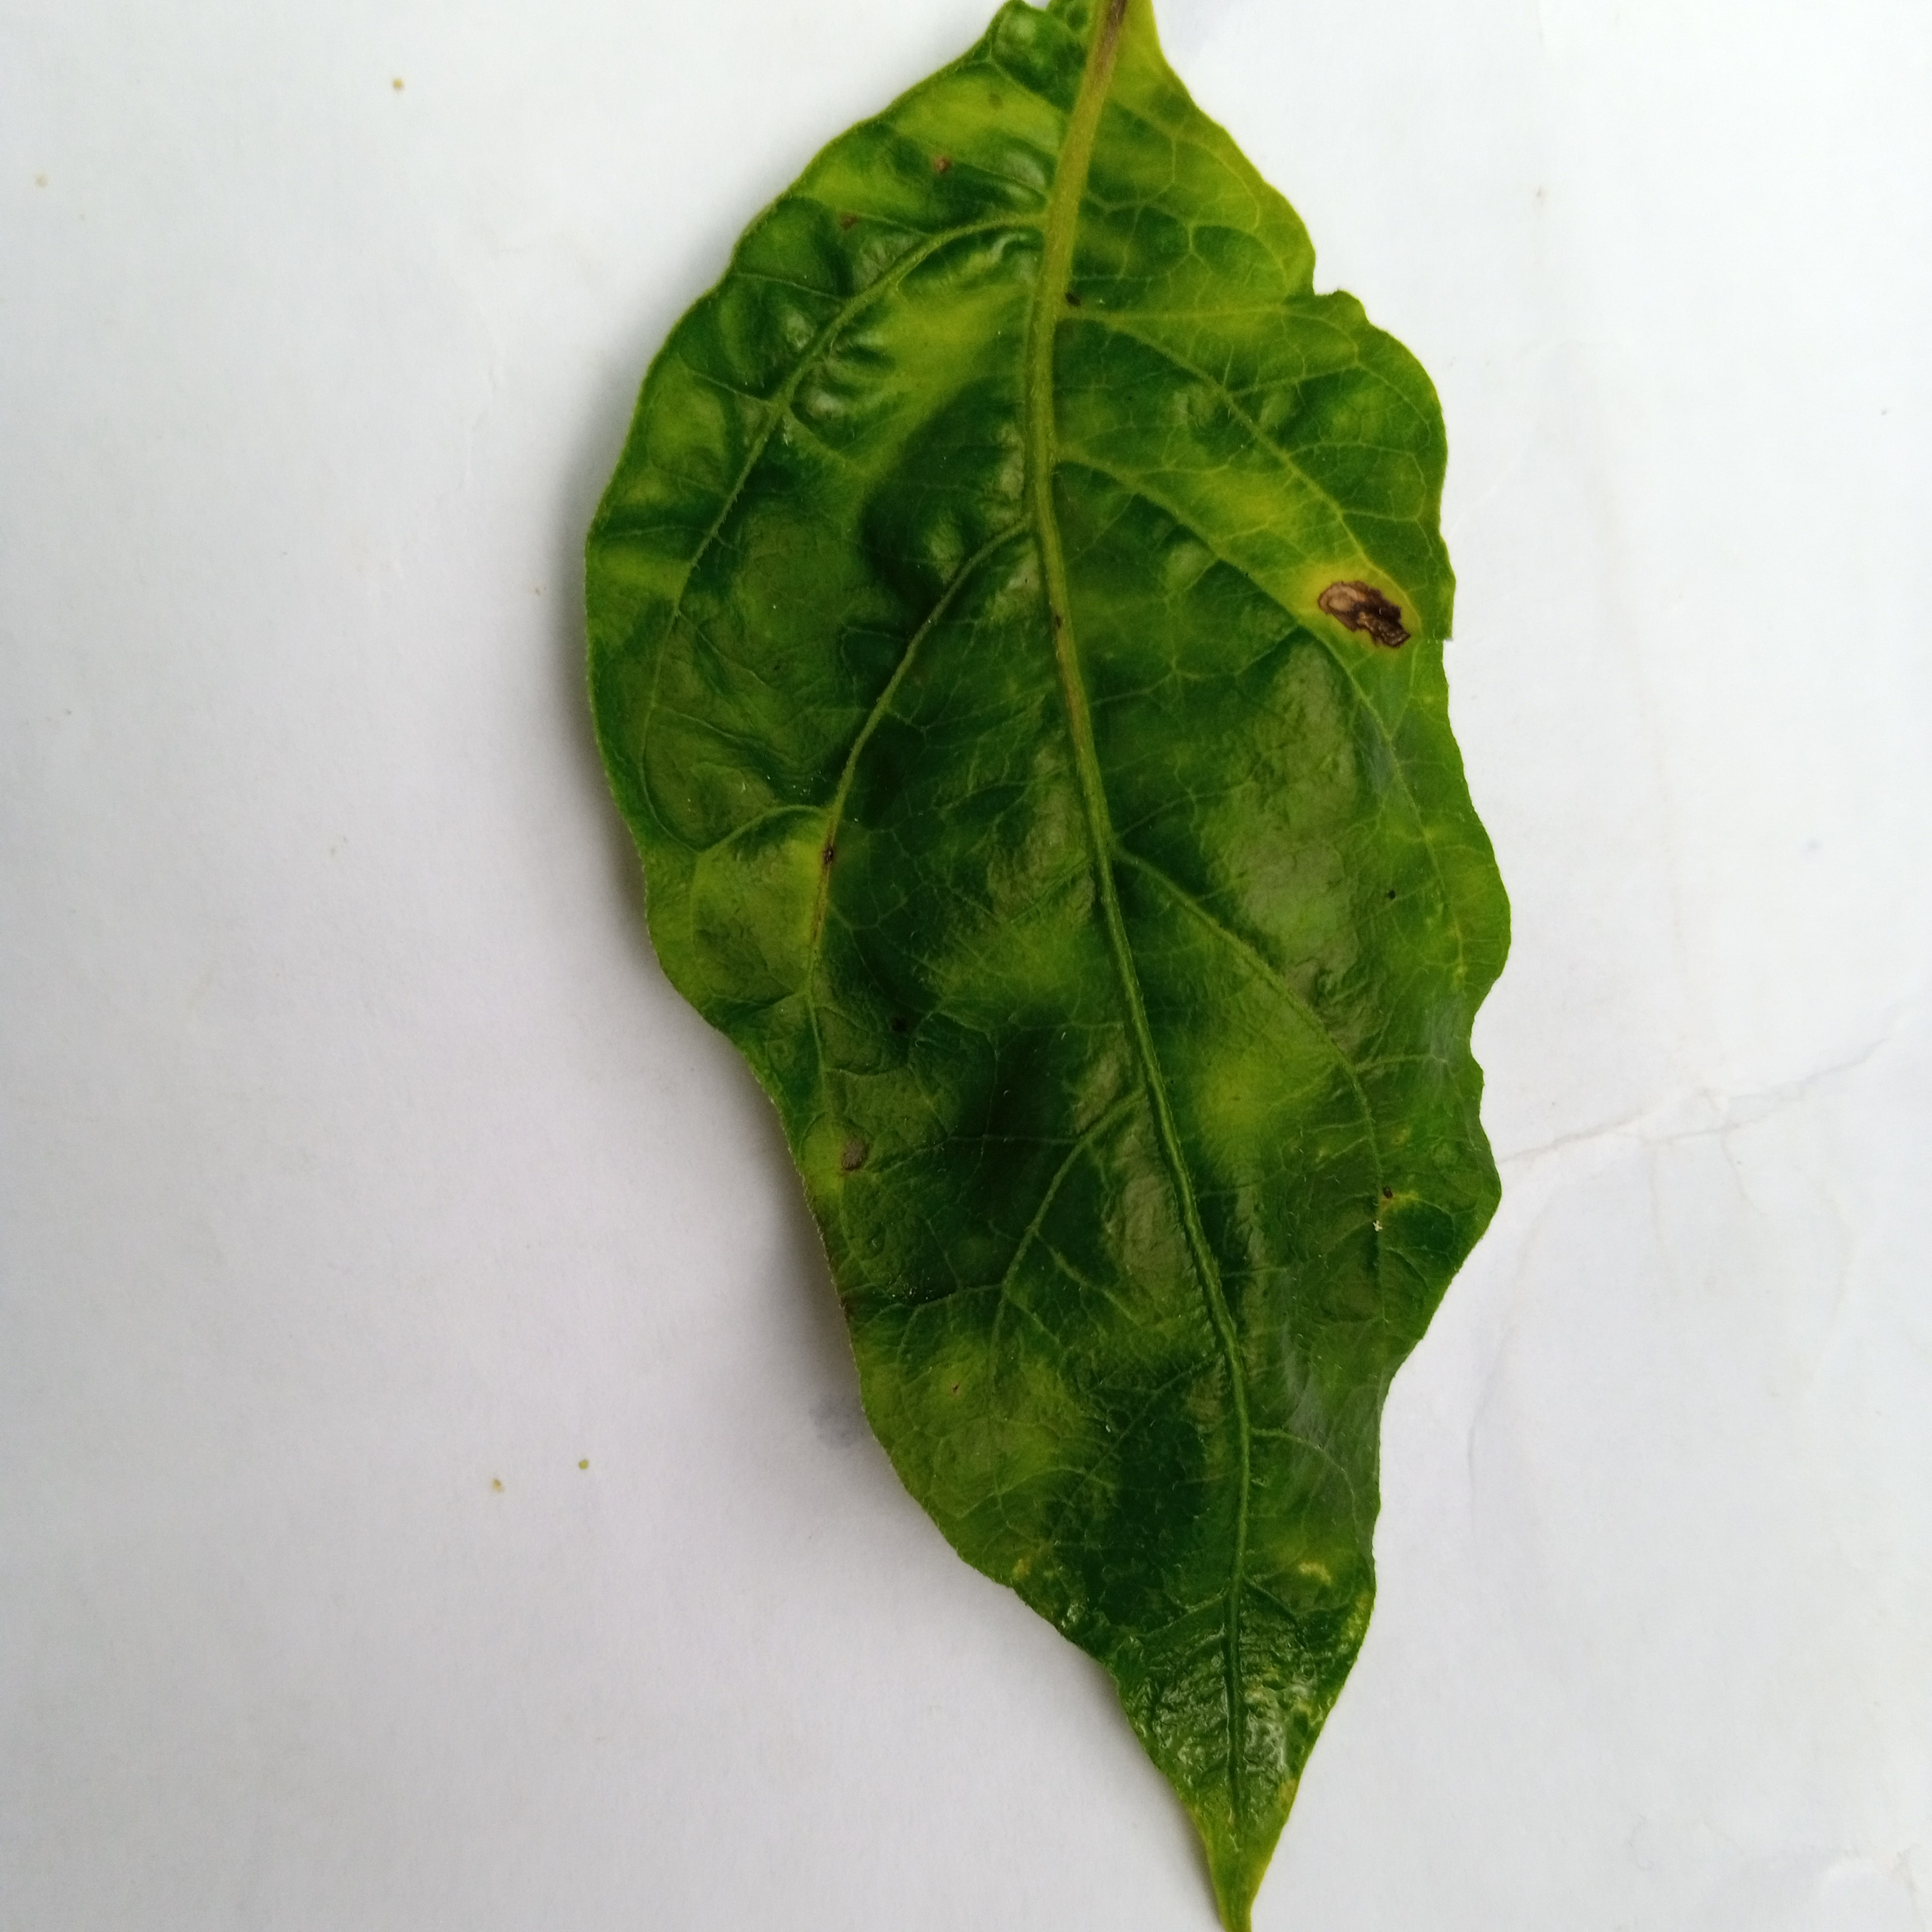Leaf: (368, 4, 1725, 1932)
